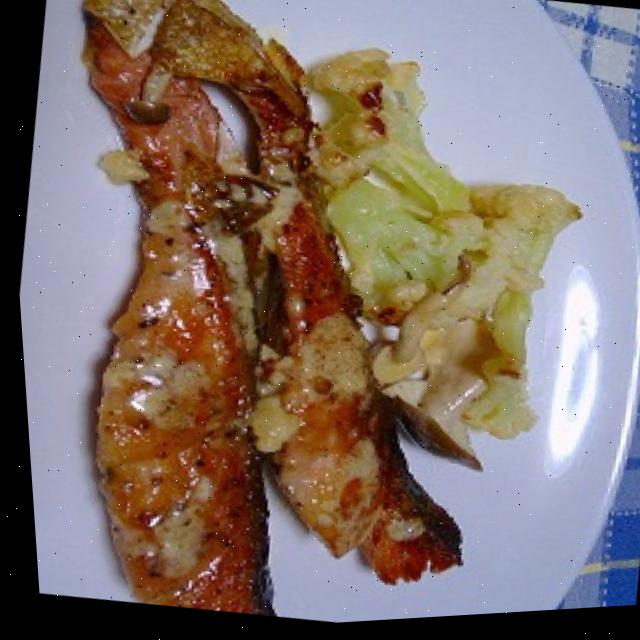熟制海鲜: (0, 0, 539, 640)
